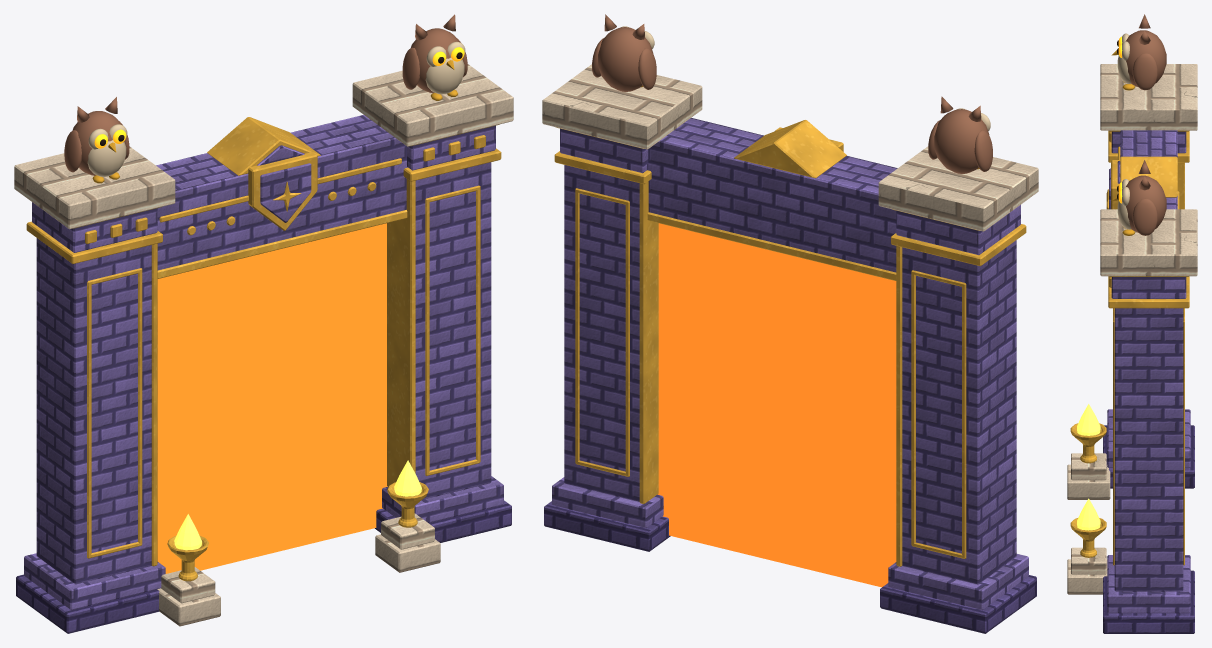
The model's file is Portal.fbx.
3 views of the same model, side by side, from view 1: azimuth 30°, elevation 25°; view 2: azimuth 150°, elevation 25°; view 3: azimuth 270°, elevation 25° (orthographic). The views are drawn at different scales.
Visible parts, largest first — view 1: Kit_Portal, Kit_Portal_Superficie, Kit_Portal_Buho.001, Kit_Portal_Buho; view 2: Kit_Portal, Kit_Portal_Superficie, Kit_Portal_Buho.001, Kit_Portal_Buho; view 3: Kit_Portal, Kit_Portal_Buho, Kit_Portal_Buho.001, Kit_Portal_Llama, Kit_Portal_Llama.001.
Boxes of the visible parts, bbox=[...] form: Kit_Portal: bbox=[14, 64, 513, 633]; Kit_Portal_Superficie: bbox=[157, 223, 387, 573]; Kit_Portal_Buho.001: bbox=[402, 14, 467, 100]; Kit_Portal_Buho: bbox=[64, 97, 129, 183]; Kit_Portal: bbox=[542, 64, 1038, 633]; Kit_Portal_Superficie: bbox=[657, 223, 896, 587]; Kit_Portal_Buho.001: bbox=[592, 14, 656, 91]; Kit_Portal_Buho: bbox=[928, 96, 992, 173]; Kit_Portal: bbox=[1067, 64, 1197, 633]; Kit_Portal_Buho: bbox=[1111, 14, 1166, 90]; Kit_Portal_Buho.001: bbox=[1111, 160, 1166, 235]; Kit_Portal_Llama: bbox=[1077, 404, 1100, 435]; Kit_Portal_Llama.001: bbox=[1077, 498, 1100, 530].
Size of the model in its own units: 7.9 by 8.53 by 2.27.
